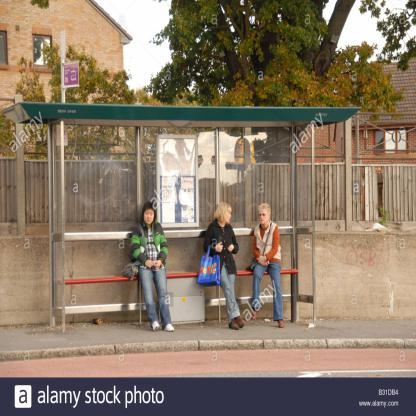Not_Wearing_Mask: (259, 210, 267, 226), (144, 210, 153, 224), (224, 210, 230, 224)
